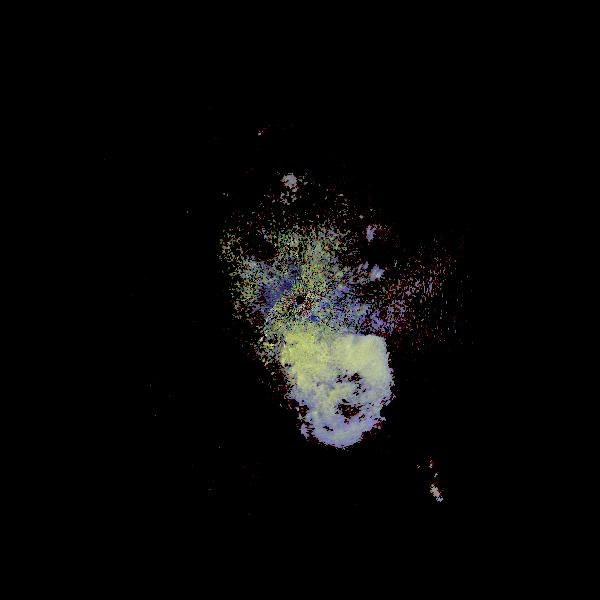roost: (205, 271, 433, 499)
